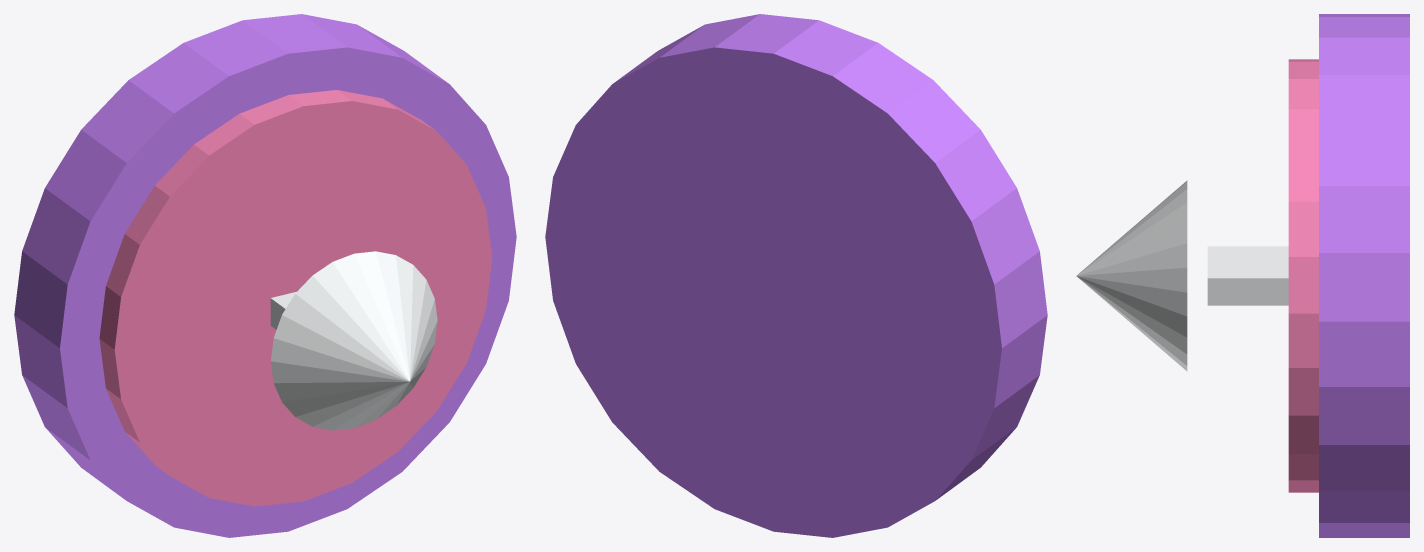
The model's file is jump_pad.glb.
3 views of the same model, side by side, from view 1: azimuth 30°, elevation 25°; view 2: azimuth 150°, elevation 25°; view 3: azimuth 270°, elevation 25° (orthographic).
Parts seen in each view (by area): view 1: pink, purple, white_1; view 2: purple; view 3: purple, pink, white_1, white.
Boxes of the visible parts, left/top/right/bottom form: pink: left=99, top=90, right=492, bottom=506; purple: left=14, top=14, right=516, bottom=537; white_1: left=270, top=251, right=437, bottom=430; purple: left=545, top=14, right=1047, bottom=537; purple: left=1319, top=14, right=1409, bottom=537; pink: left=1288, top=59, right=1318, bottom=492; white_1: left=1076, top=180, right=1187, bottom=371; white: left=1207, top=246, right=1288, bottom=305.
Size of the model in its own units: 1.04 by 1.04 by 0.66.
